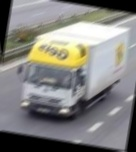truck: (9, 9, 135, 132)
